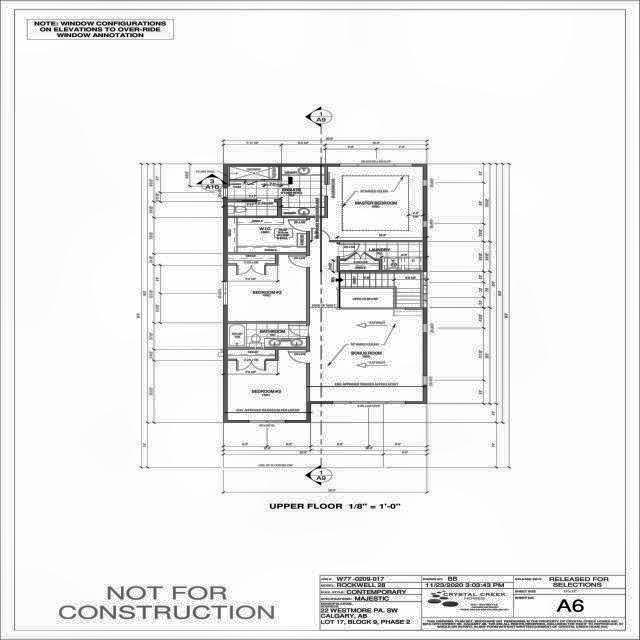room: (310, 166, 423, 240), (227, 350, 307, 420), (227, 254, 307, 321), (227, 166, 325, 216), (228, 218, 307, 252), (340, 242, 423, 270), (227, 323, 307, 347), (227, 202, 277, 216), (227, 254, 275, 263), (227, 350, 275, 359), (340, 261, 379, 270)
